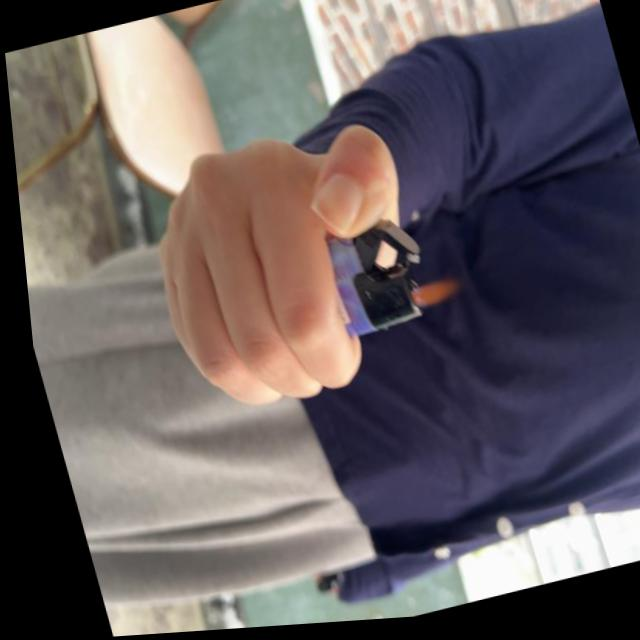Fire: (400, 276, 459, 318)
